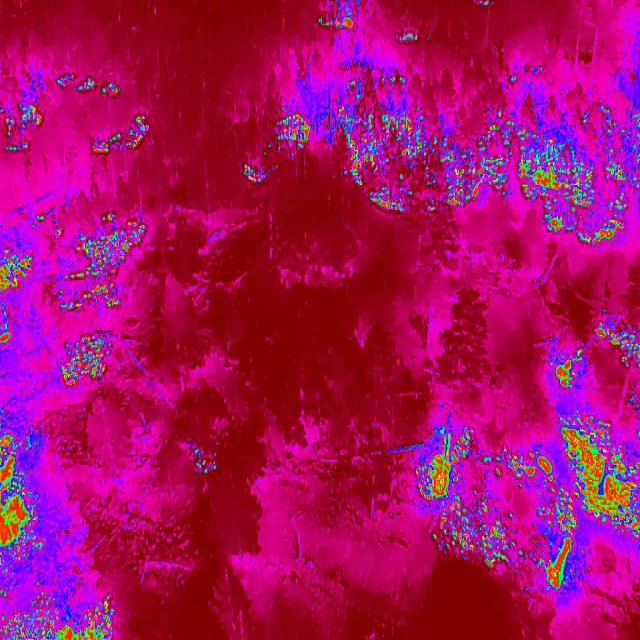fire: (326, 63, 509, 235), (517, 91, 640, 249), (559, 416, 640, 550), (56, 212, 156, 316), (432, 499, 530, 576), (4, 594, 125, 640), (1, 428, 40, 563), (413, 428, 475, 504), (544, 488, 583, 591), (90, 110, 158, 166), (476, 444, 562, 486), (58, 329, 112, 386), (0, 97, 48, 157), (266, 112, 314, 163), (590, 315, 638, 364), (52, 69, 126, 99), (0, 246, 36, 299), (542, 539, 578, 591), (552, 341, 589, 391), (314, 0, 363, 35), (242, 160, 271, 186), (396, 26, 428, 45), (188, 444, 206, 464), (0, 332, 11, 348)
